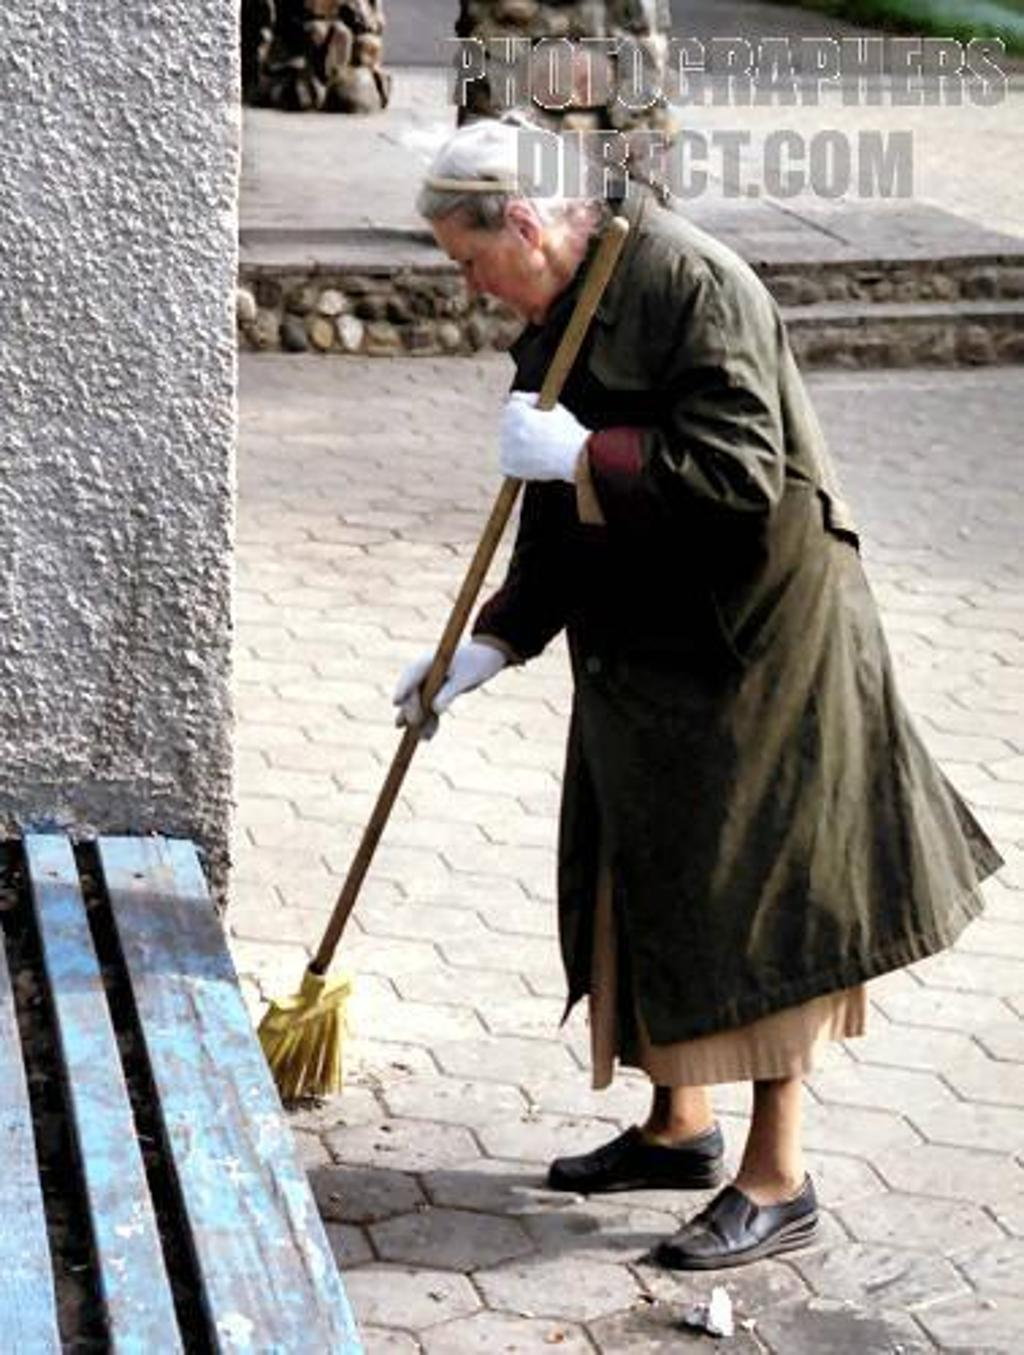face: (432, 181, 551, 313)
